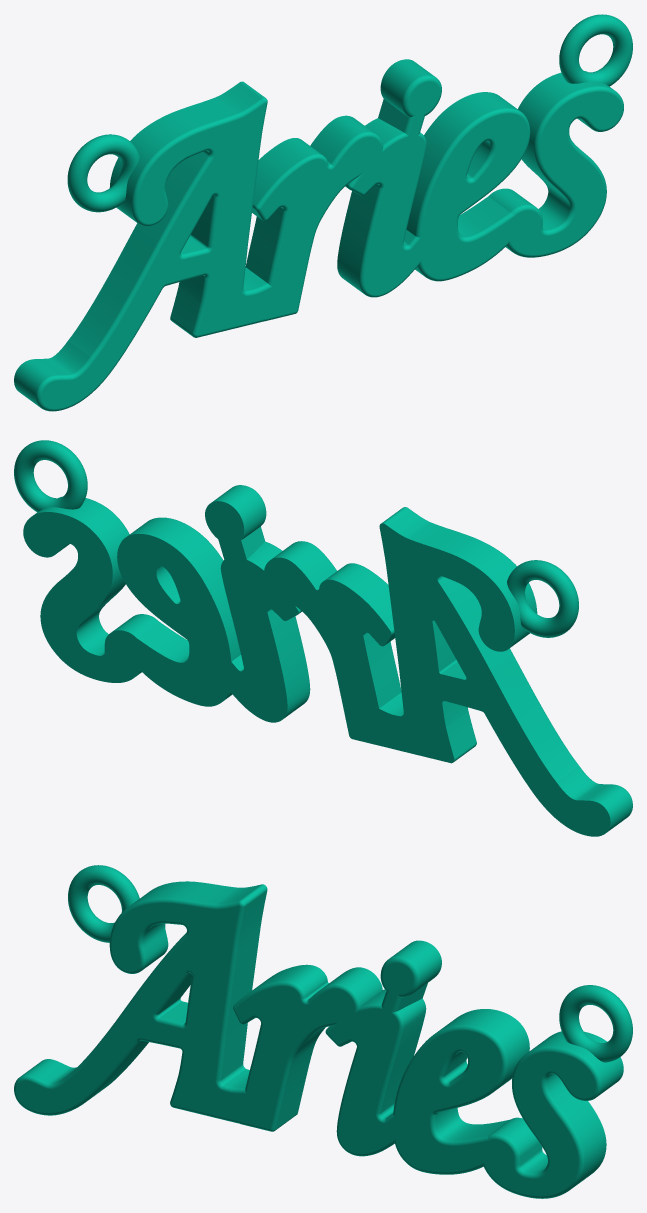
3 views of the same model, one above another, from view 1: azimuth 30°, elevation 25°; view 2: azimuth 150°, elevation 25°; view 3: azimuth 330°, elevation 25° (orthographic).
Visible parts, largest first — view 1: VBP146(front).3dm; view 2: VBP146(front).3dm; view 3: VBP146(front).3dm.
Part boxes in pixels (x1,y1,x2,y2): VBP146(front).3dm: (14, 14, 632, 411); VBP146(front).3dm: (14, 440, 632, 836); VBP146(front).3dm: (14, 865, 632, 1198).
Bounding box in the file's own units: 3.69 × 1.53 × 0.2534.
